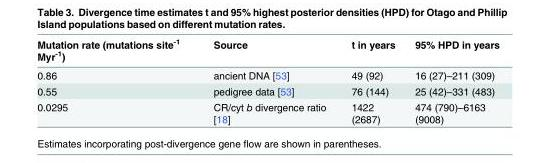table: (36, 36, 498, 124)
table column: (36, 36, 195, 124), (195, 36, 338, 124), (404, 36, 498, 124), (338, 36, 404, 124)
table column header: (36, 36, 498, 65)
table row: (36, 36, 498, 65), (36, 98, 498, 124), (36, 65, 498, 82), (36, 82, 498, 98)
